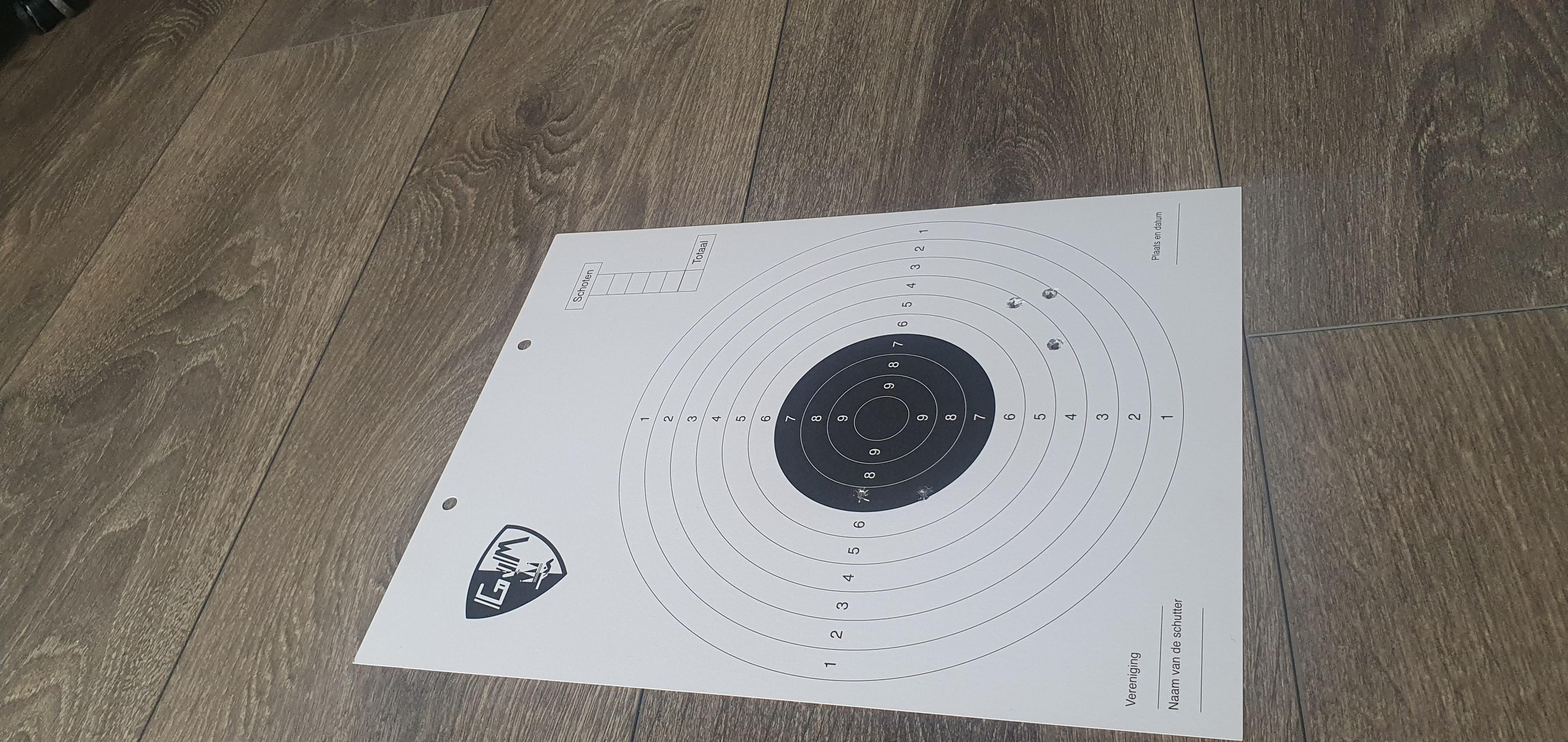hole: (915, 485, 935, 501), (852, 486, 870, 503), (1005, 296, 1024, 310), (1046, 337, 1064, 351), (1041, 287, 1059, 300)
